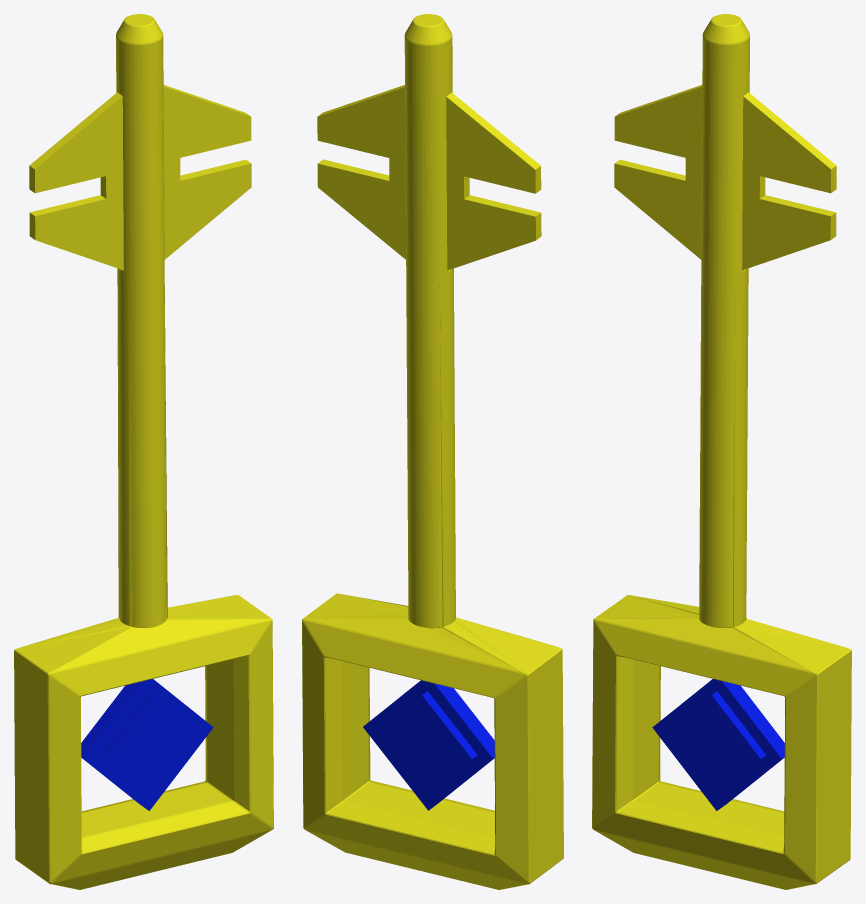
Rendered from keyChest.fbx.
The picture shows the model from 3 angles, left to right: view 1: azimuth 30°, elevation 25°; view 2: azimuth 150°, elevation 25°; view 3: azimuth 330°, elevation 25°; orthographic projection.
Parts seen in each view (by area): view 1: Cylinder; view 2: Cylinder; view 3: Cylinder.
Boxes of the visible parts, box(x1,y1,x2,y2) form: Cylinder: box(14, 14, 273, 889); Cylinder: box(302, 14, 563, 889); Cylinder: box(592, 14, 851, 889).
Size of the model in its own units: 1909 by 6811 by 667.
